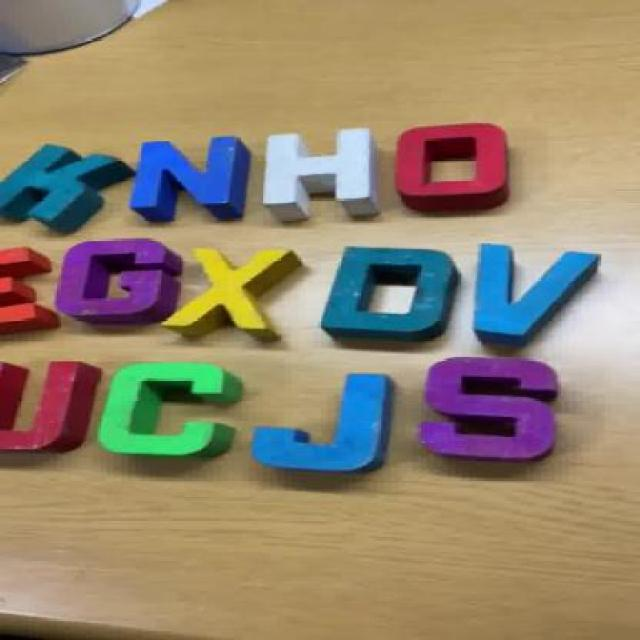C: (84, 354, 253, 466)
D: (306, 244, 459, 350)
G: (56, 232, 187, 330)
H: (263, 128, 389, 222)
J: (265, 372, 383, 482)
K: (6, 142, 126, 232)
N: (116, 133, 256, 224)
O: (393, 123, 510, 217)
S: (417, 354, 572, 461)
V: (460, 241, 600, 348)
X: (167, 246, 315, 340)
